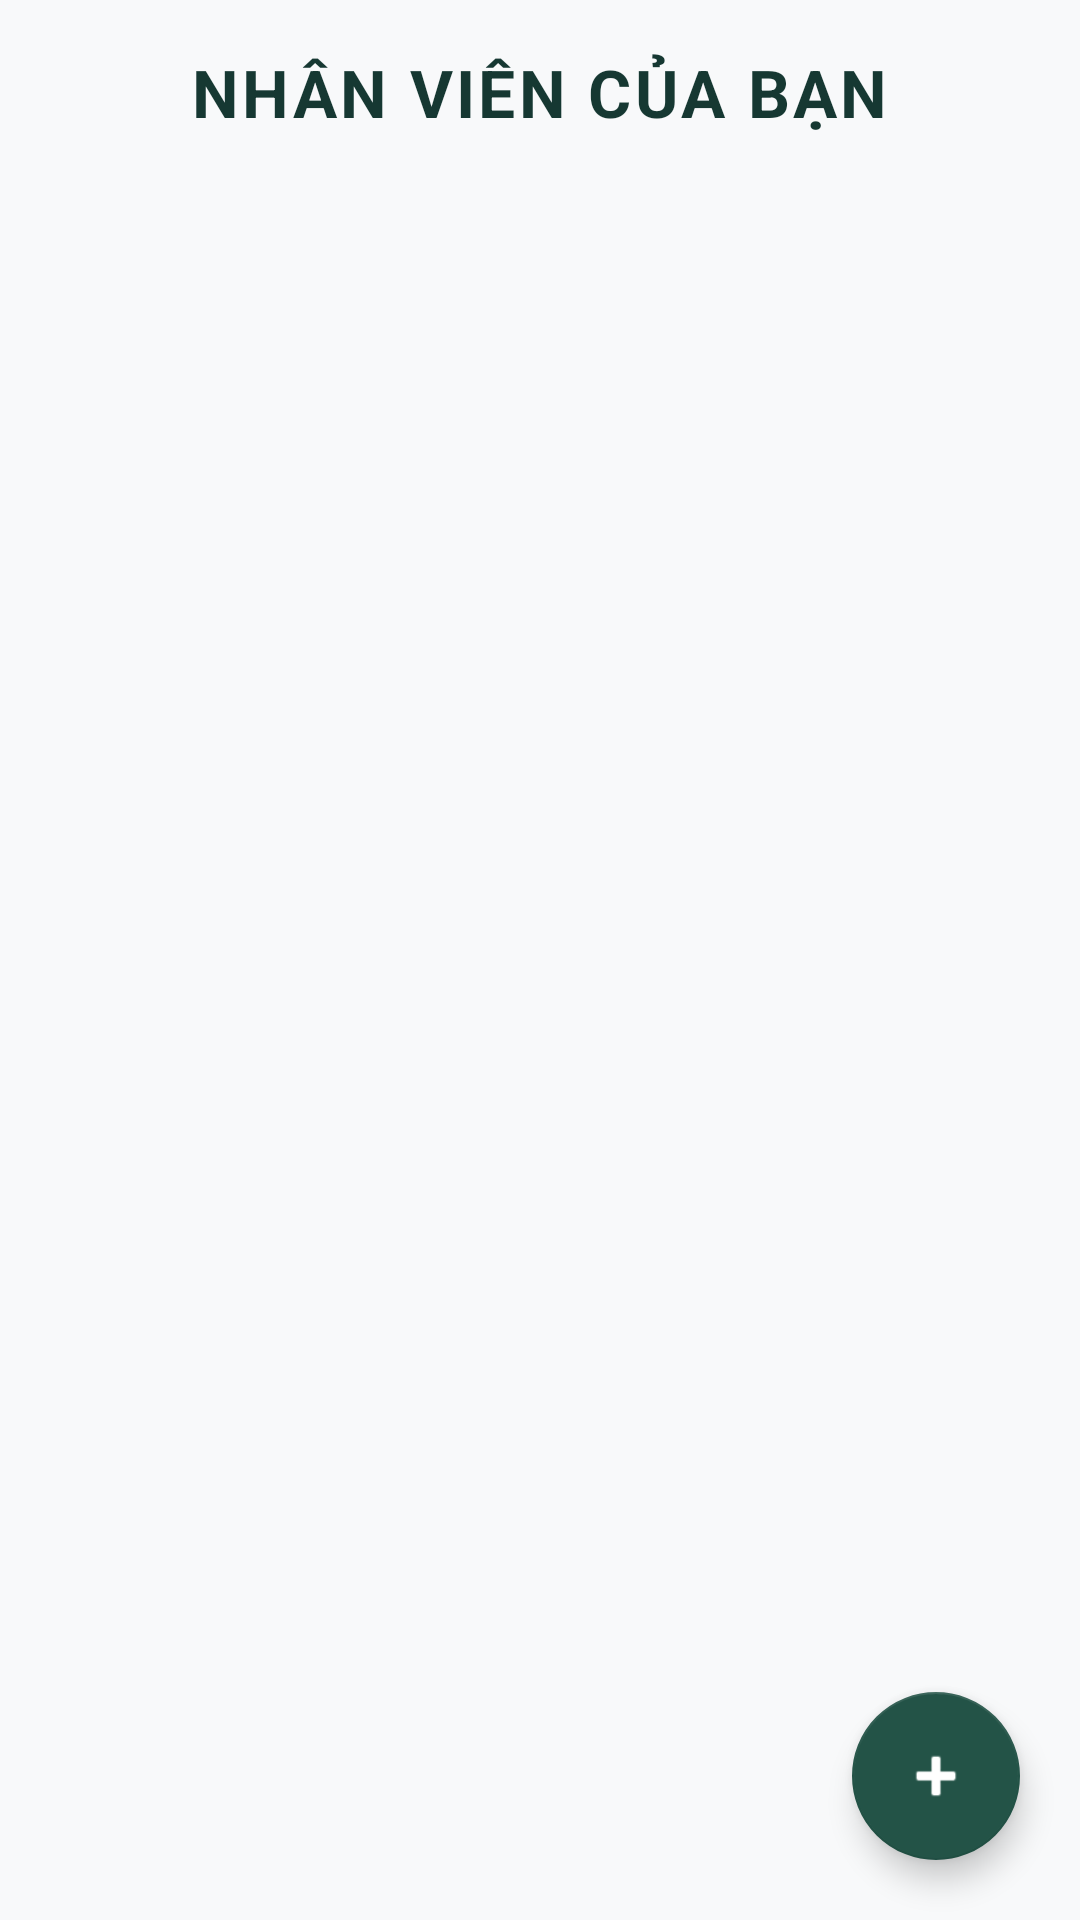

Locate icon controls on the screen. Image size 1080px x 1920px, boxes as (x1, y1, x2, y2).
Thêm nhân viên: (852, 1692, 1020, 1860)
